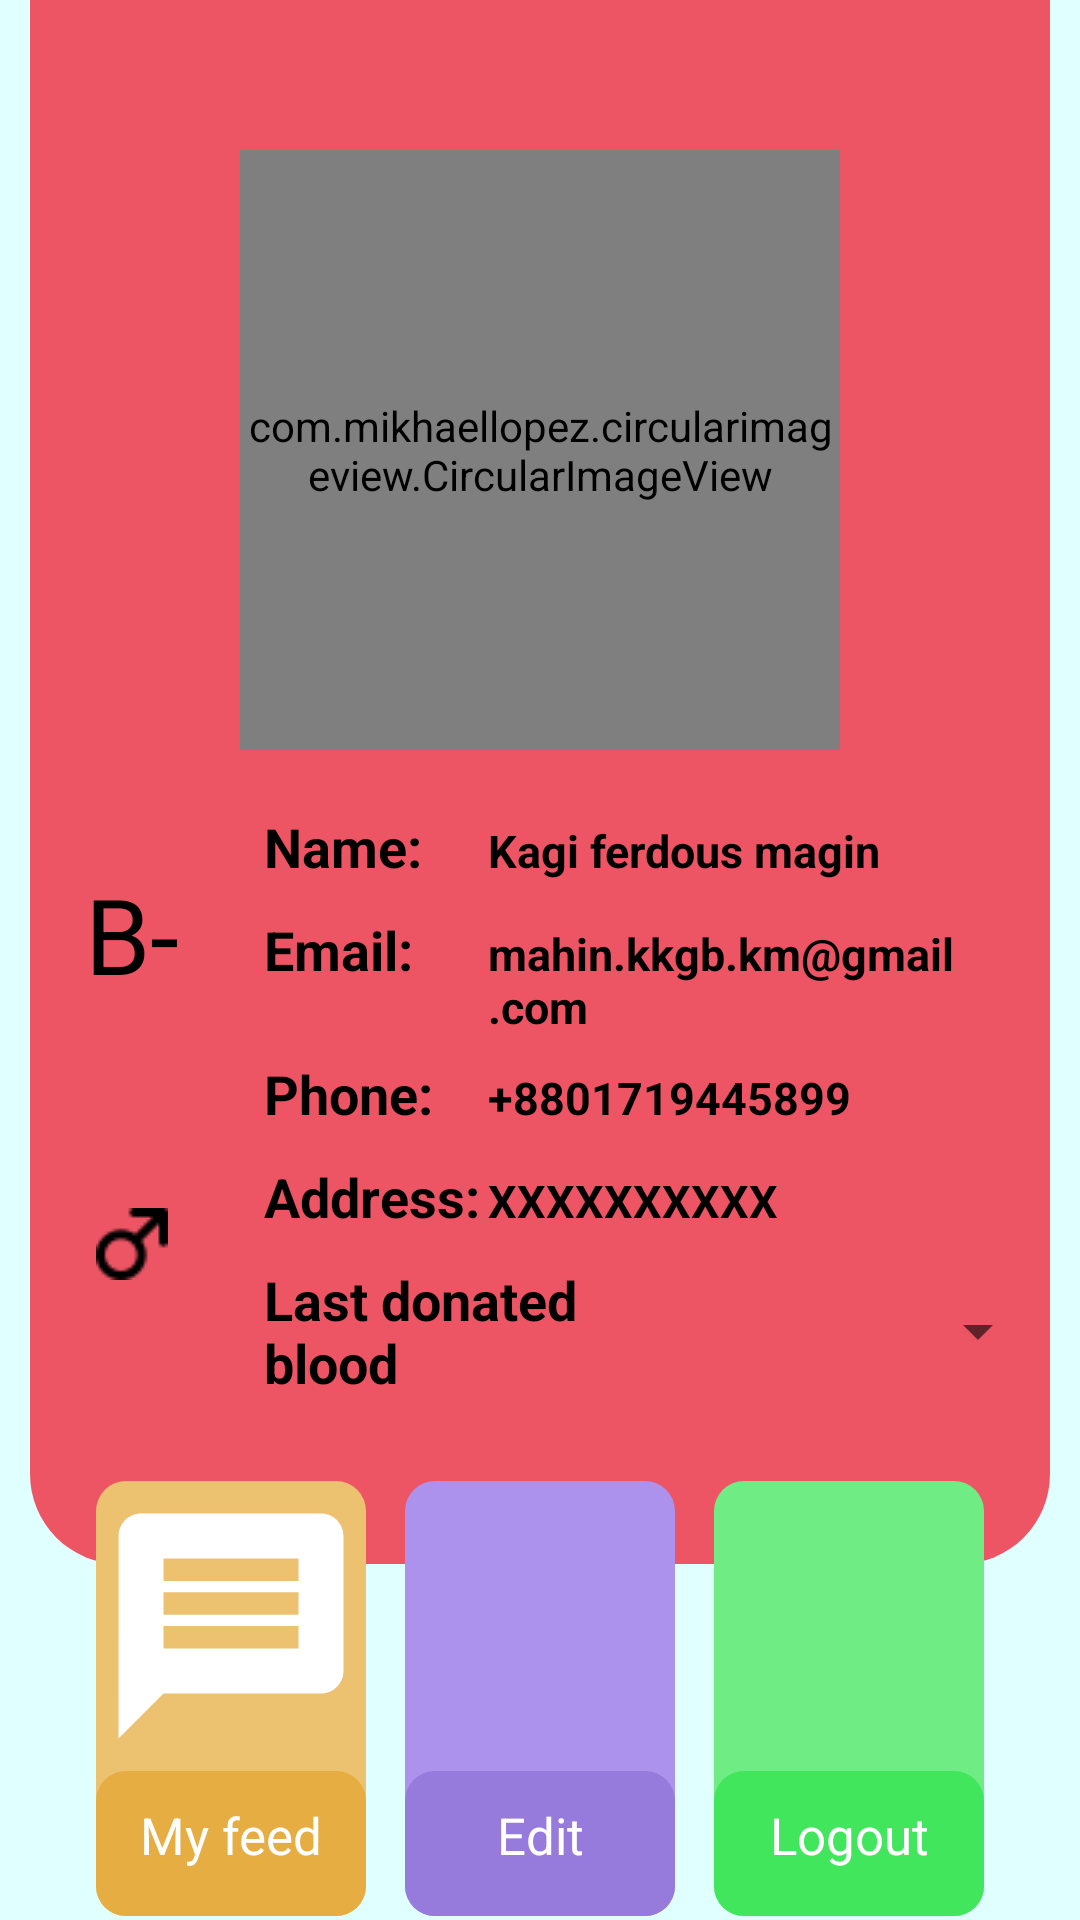

Named icons in this screenshot (1080 × 1920) and their centers, (x=x, y=y):
gendermale: (x=132, y=1244)
message: (x=231, y=1626)
